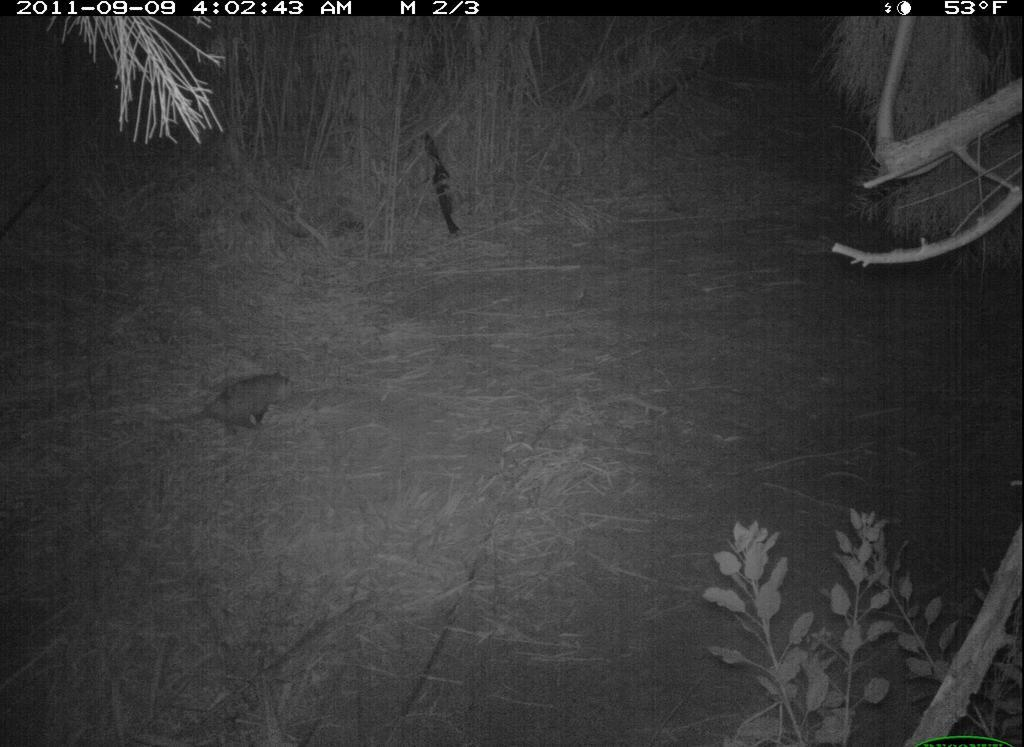opossum: (154, 365, 304, 443)
